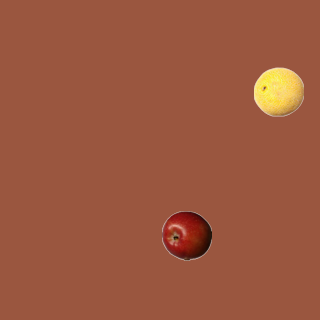Apple Braeburn: (161, 210, 211, 260)
Cantaloupe 1: (253, 66, 303, 116)
